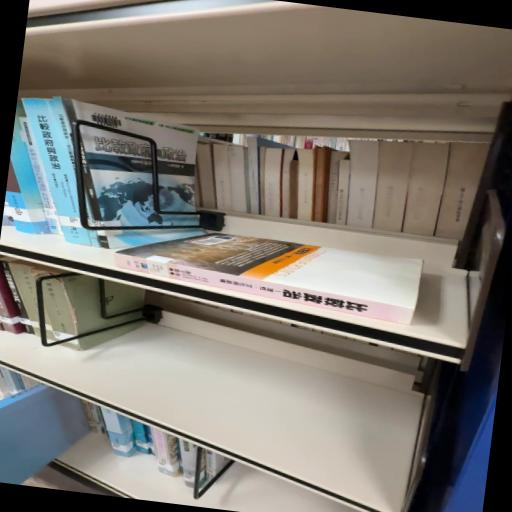flat: (115, 233, 423, 325)
